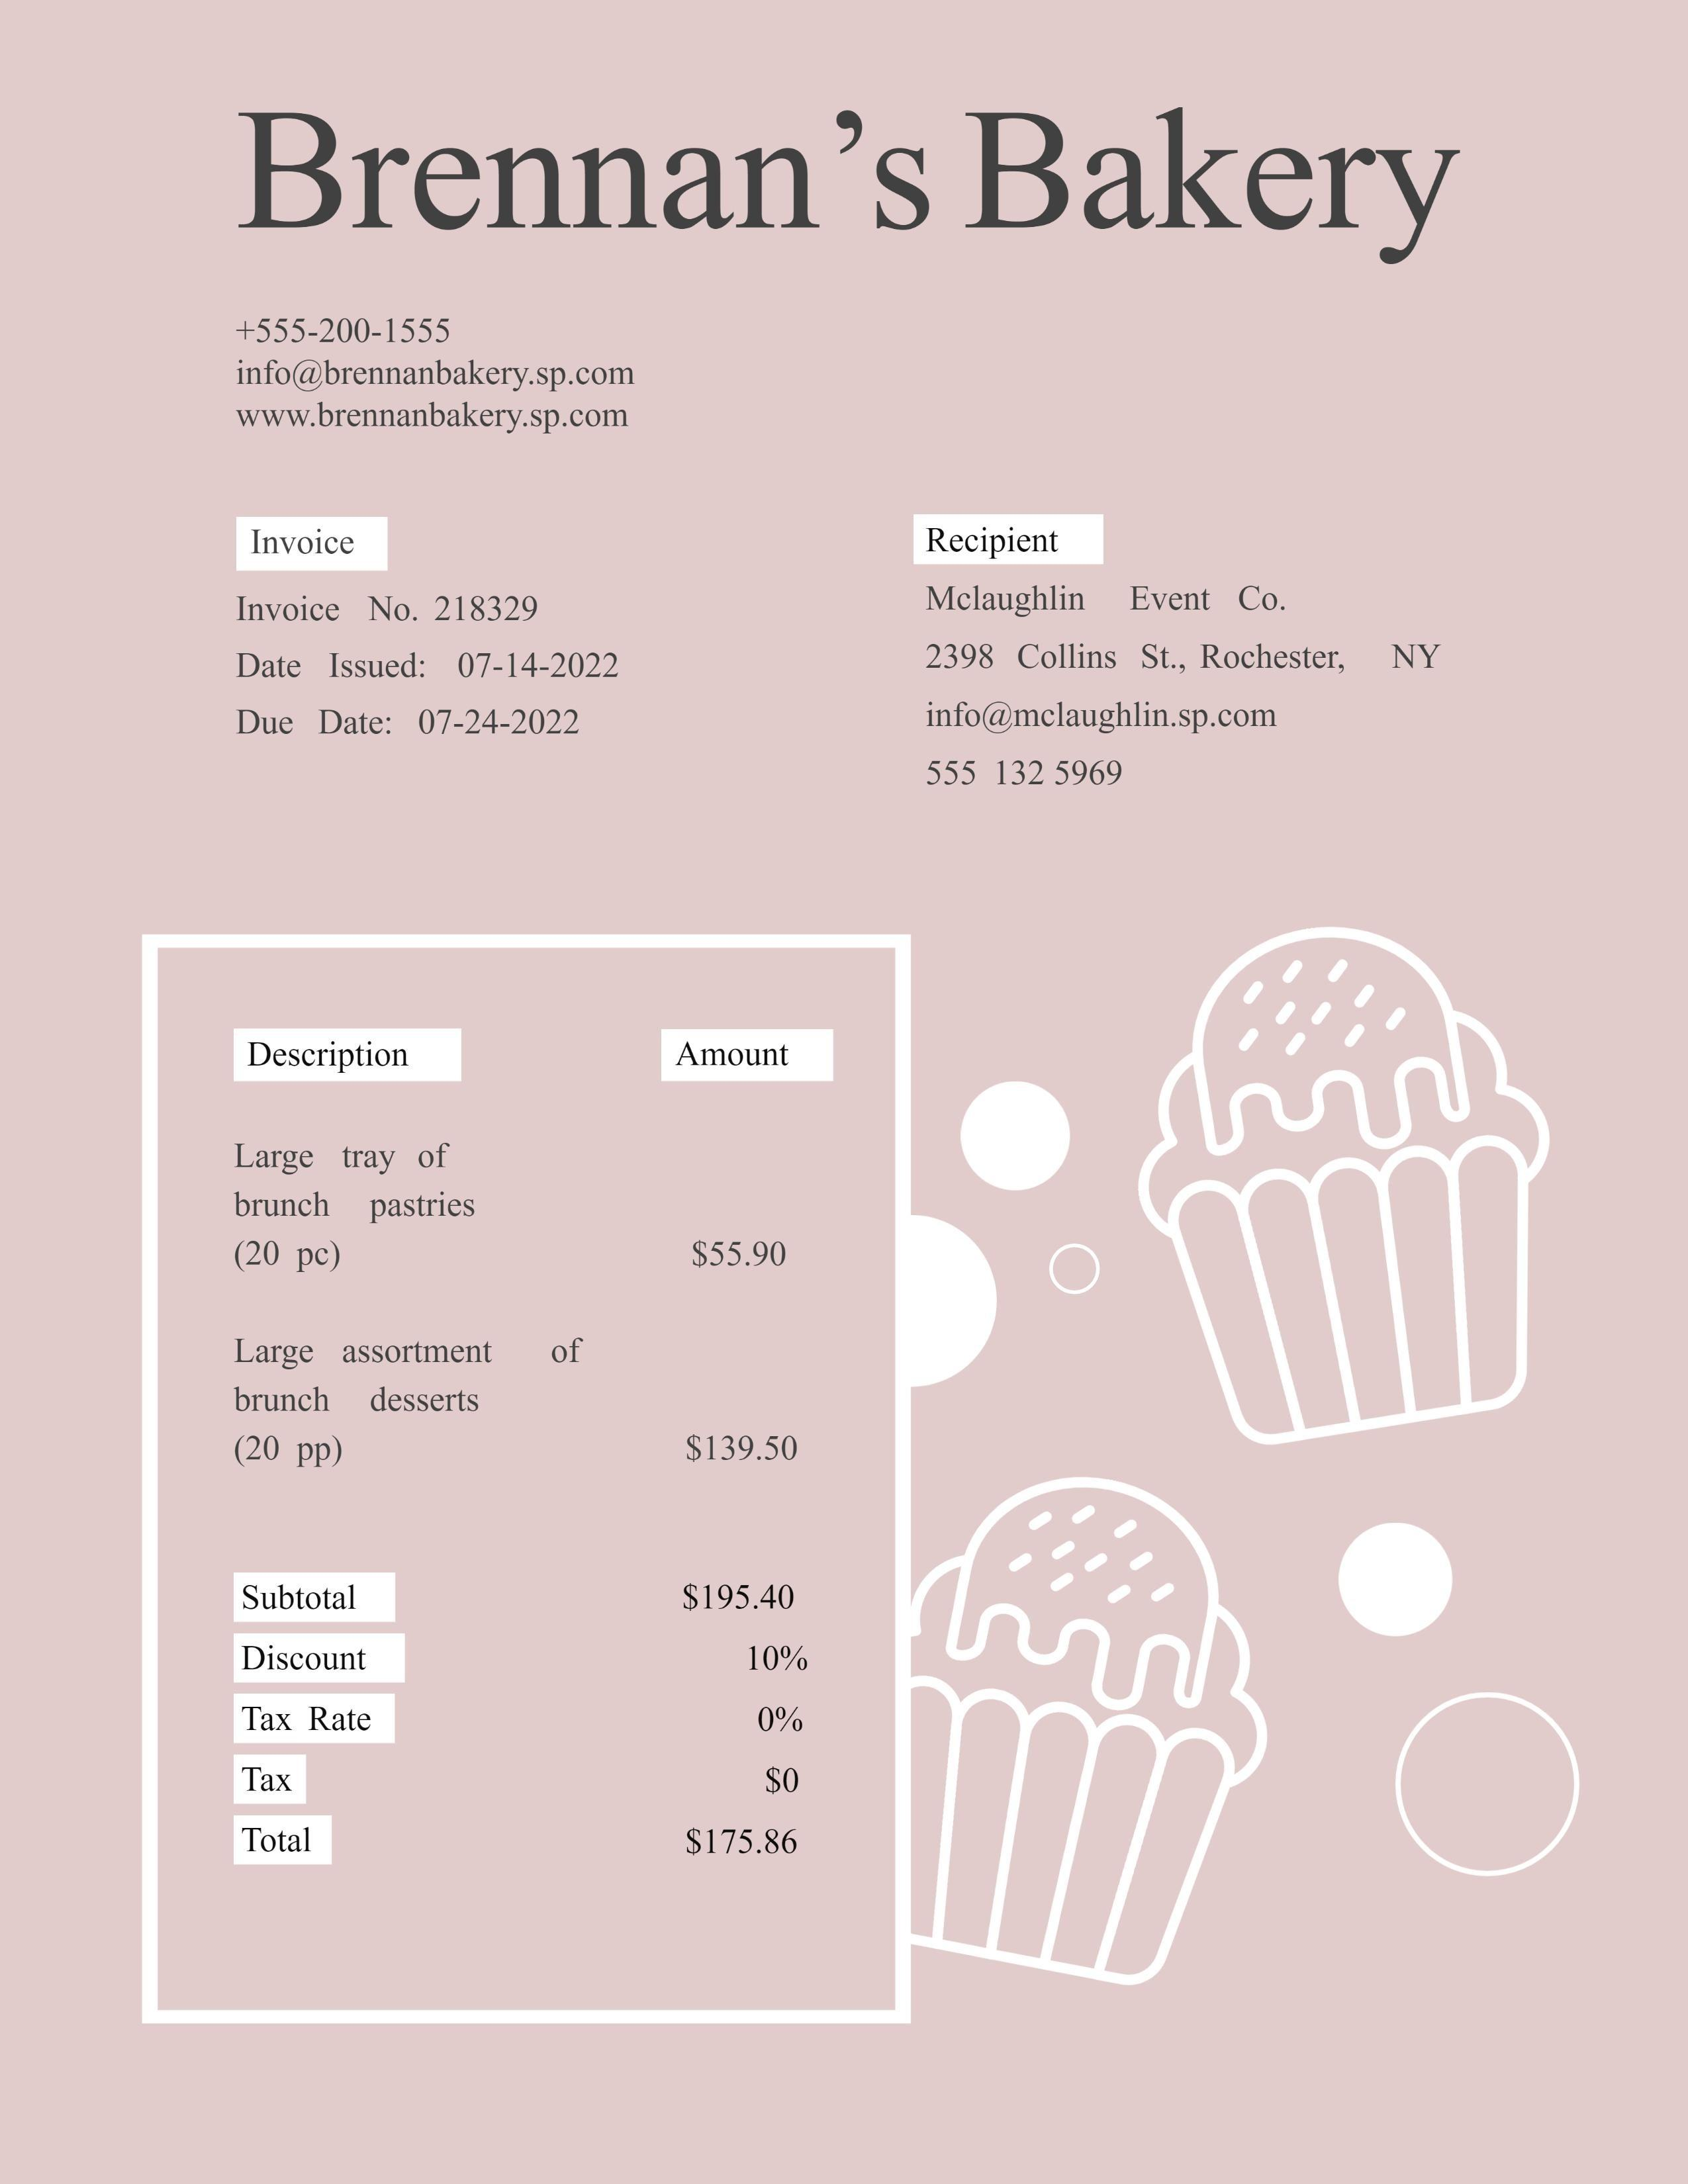ROI: (225, 1030, 871, 1496), (232, 76, 1479, 278), (232, 1558, 828, 1874), (913, 583, 1459, 794), (225, 580, 638, 771)
